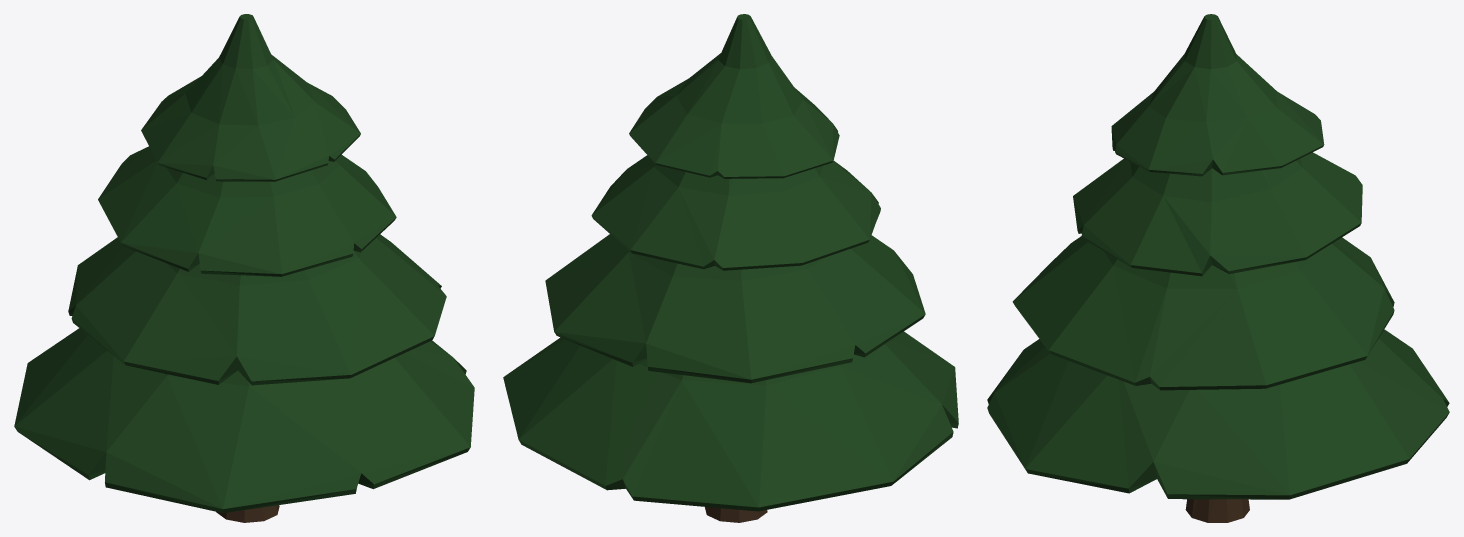
Rendered from fat_tree.glb.
3 renders of one model, left to right at view 1: azimuth 30°, elevation 25°; view 2: azimuth 150°, elevation 25°; view 3: azimuth 270°, elevation 25°, orthographic.
Parts seen in each view (by area): view 1: Tree_3; view 2: Tree_3; view 3: Tree_3.
Part boxes in pixels (bbox=[...]): Tree_3: bbox=[14, 14, 474, 522]; Tree_3: bbox=[503, 14, 958, 522]; Tree_3: bbox=[987, 14, 1449, 522].
Size of the model in its own units: 3.63 by 4.36 by 3.72.
